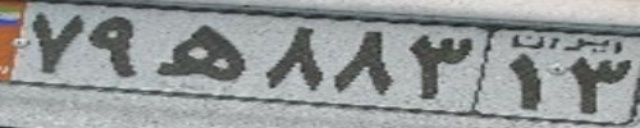1: (506, 54, 540, 109)
3: (407, 33, 473, 100), (566, 56, 632, 113)
7: (30, 10, 83, 73)
8: (335, 30, 391, 94), (266, 26, 321, 90)
9: (87, 13, 138, 77)
he: (158, 24, 245, 81)
